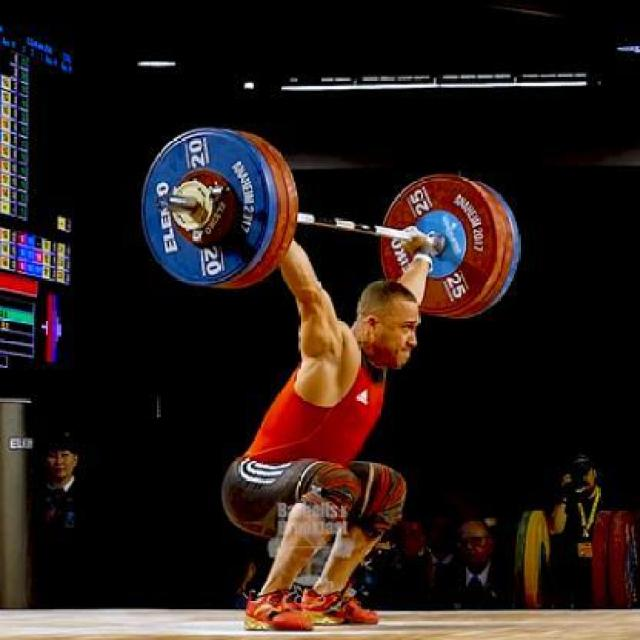barbell: (138, 128, 280, 290)
